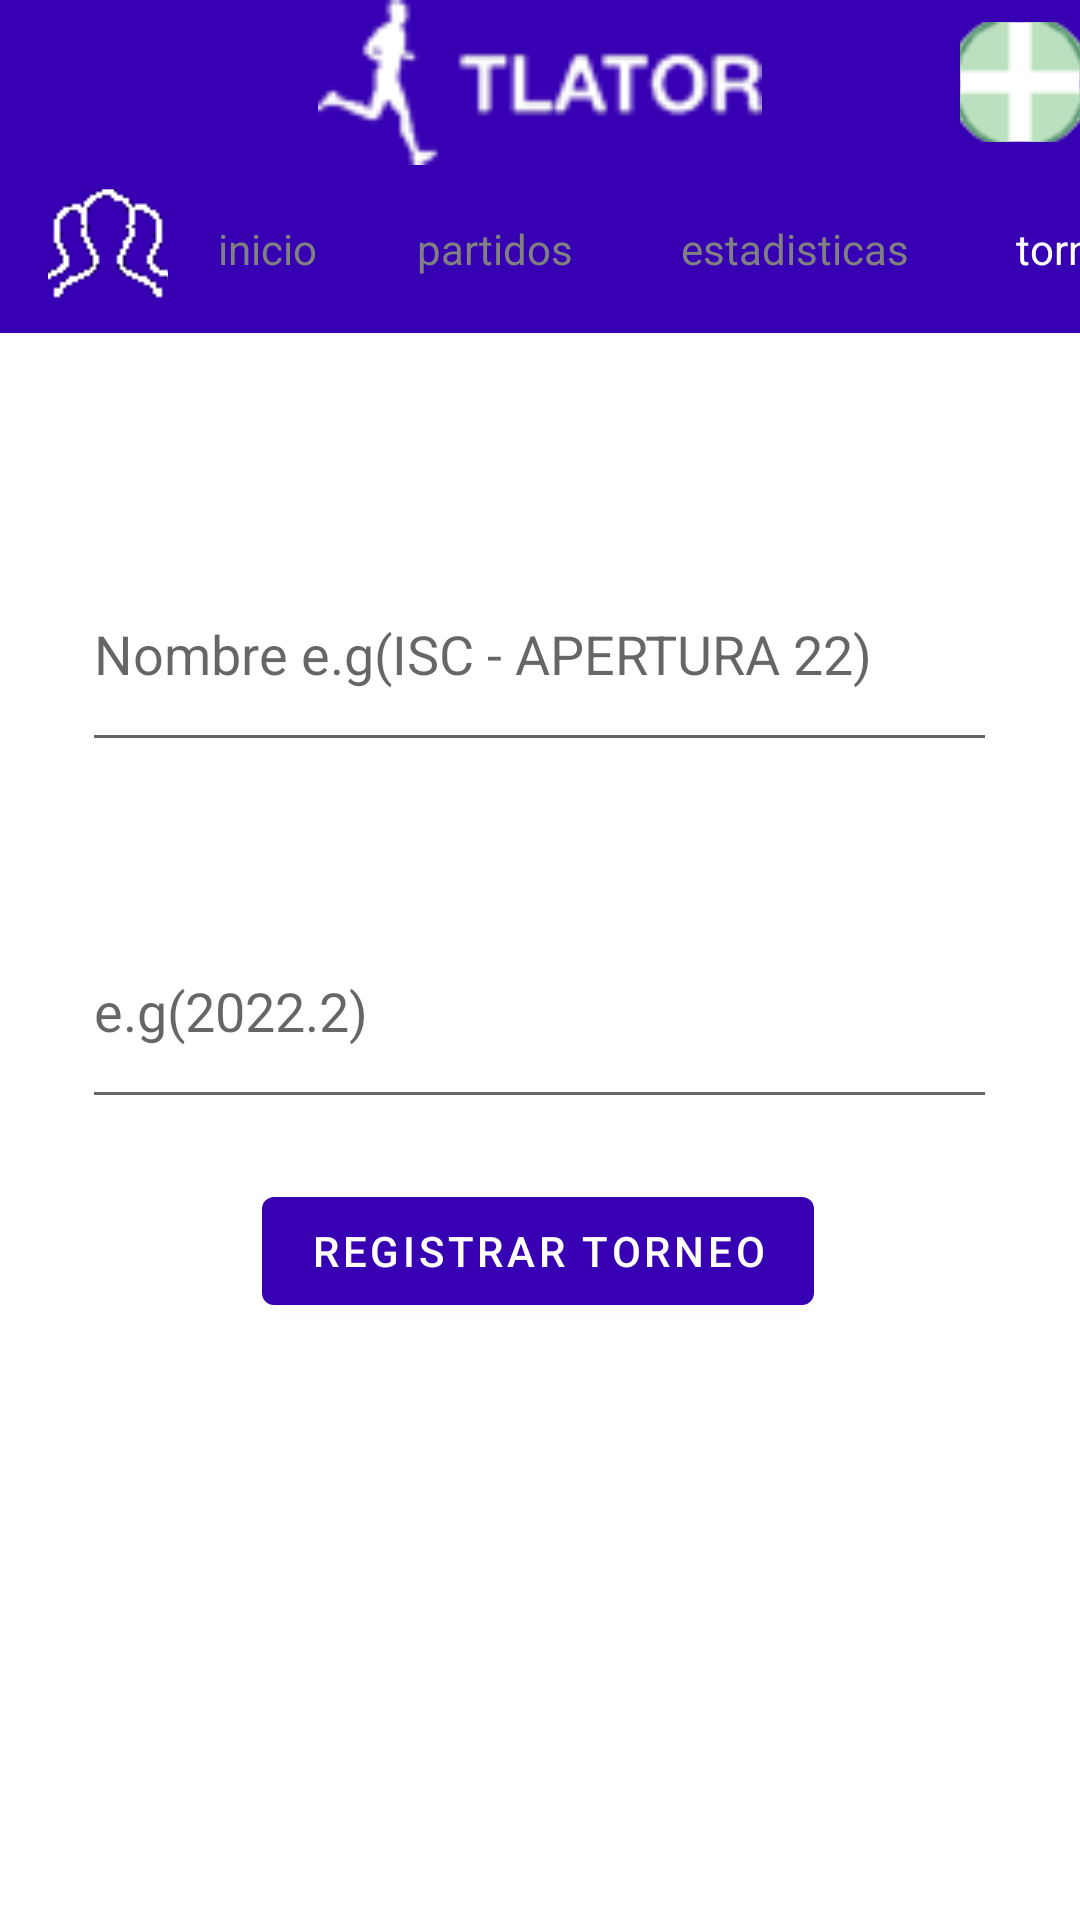

Where to tap for icons on this 1080w x 1920h app screen, as (x,y):
plusdos: (1020,82)
users: (108,243)
